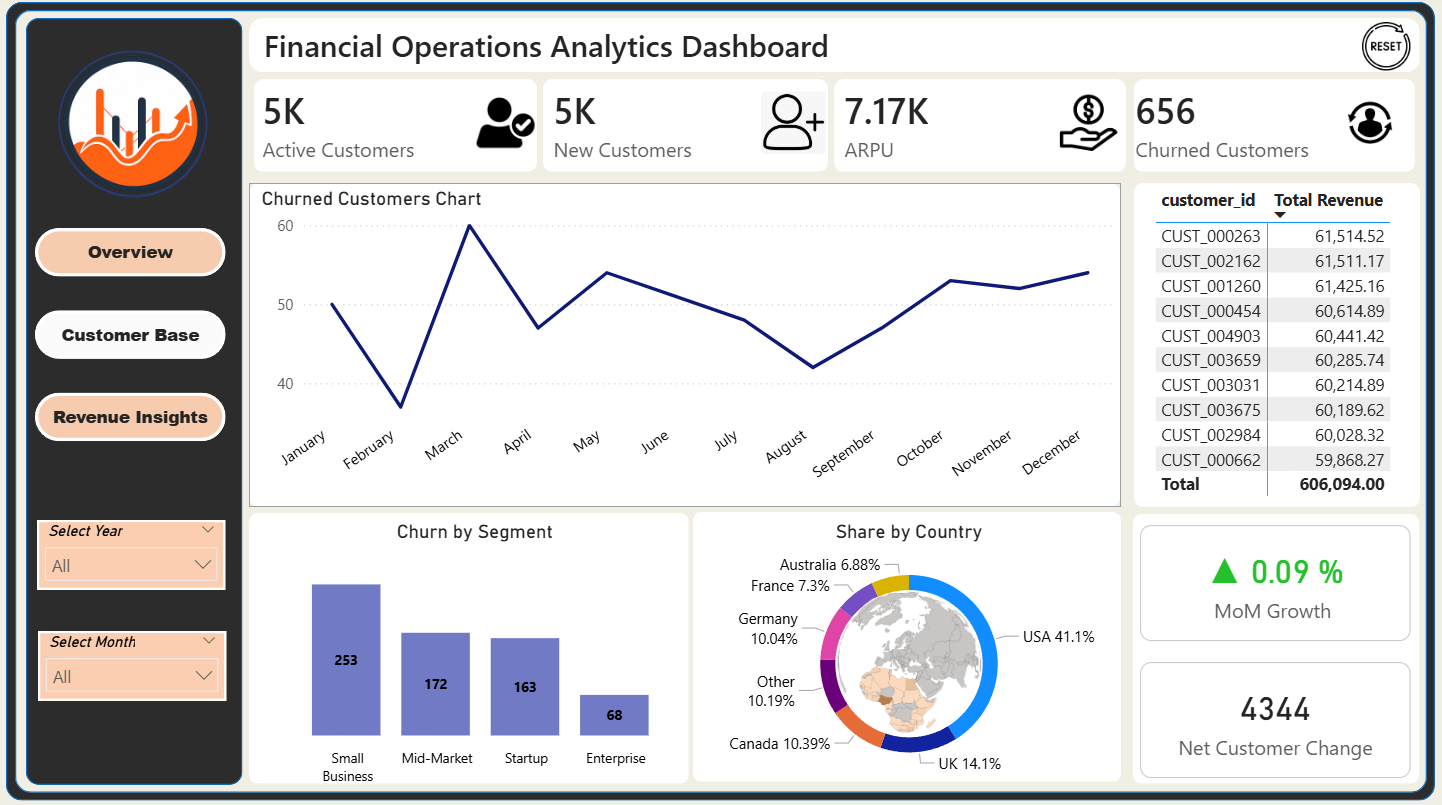

The page's visual inventory and layout, read from the dashboard file:
{"tool":"powerbi","page":{"name":"Customer Base","canvas":[1280,720],"ordinal":1},"visuals":[{"type":"group","id":"g1","title":"Group 1","box":[6.4,5.5,1267.3,708.2],"z":0},{"type":"shape","box":[6.4,5.5,1267,708],"z":0,"group":"g1"},{"type":"shape","box":[226.1,73.6,250.9,82.5],"z":0,"group":"g2"},{"type":"shape","box":[14.4,12.5,1252,694],"z":1000,"group":"g1"},{"type":"shape","box":[23.6,19.1,191.8,680],"z":1000},{"type":"shape","box":[482.4,73.6,252.7,82.5],"z":1000,"group":"g2"},{"type":"shape","box":[221.8,19.1,1038.2,48.2],"z":2000},{"type":"shape","box":[740.3,74,258.9,82.5],"z":2000,"group":"g2"},{"type":"shape","box":[1006.3,74,249.2,82.5],"z":3000,"group":"g2"},{"type":"pivotTable","fields":{"Rows":["transactions.customer_id"],"Values":["transactions.Total Revenue"]},"box":[682.7,173.6,247.3,284.5],"z":3000},{"type":"shape","box":[221.8,165.5,772.7,287.3],"z":4000},{"type":"lineChart","title":"Churned Customers Chart","fields":{"Y":["customers.Churned Customers"],"Category":["customers.churn_date.Variation.Date Hierarchy.Month"]},"box":[227.9,169.4,767,281.1],"z":5000},{"type":"shape","box":[1006.4,165.5,253.6,287.3],"z":6000},{"type":"pivotTable","fields":{"Rows":["transactions.customer_id"],"Values":["transactions.Total Revenue"]},"box":[1005.5,169.1,251.8,280.9],"z":7000},{"type":"shape","box":[221.8,458.2,390,240],"z":8000},{"type":"clusteredColumnChart","title":"Churn by Segment","fields":{"Category":["customers.segment"],"Y":["Sum(customers.is_churned)"]},"box":[228.8,464.6,386.6,242.1],"z":9000},{"type":"shape","box":[615.4,457.5,379.5,239.4],"z":10000},{"type":"donutChart","title":"Share by Country","fields":{"Category":["customers.country"],"Y":["Sum(transactions.amount)"]},"box":[618.9,464.6,376,235.9],"z":11000},{"type":"image","box":[706.4,528.2,200.9,124.5],"z":12000},{"type":"shape","box":[1005.5,459.1,253.6,239.1],"z":13000},{"type":"card","fields":{"Values":["transactions.MoM Display"]},"box":[1011.8,469.1,240,102.7],"z":14000},{"type":"card","fields":{"Values":["customers.Net Customer Change"]},"box":[1011.8,590.9,240,102.7],"z":15000},{"type":"slicer","title":"Year","fields":{"Values":["transactions.year_month.Variation.Date Hierarchy.Year"]},"box":[33.3,464.6,167.3,62.5],"z":16000},{"type":"slicer","title":"Year","fields":{"Values":["transactions.year_month.Variation.Date Hierarchy.Month"]},"box":[34.3,563.4,167.3,62.5],"z":17000},{"type":"pageNavigator","box":[31.9,205.7,169.4,190.6],"z":18000},{"type":"textbox","box":[229.7,20.4,558.6,55],"z":19000},{"type":"image","box":[16,12.4,202.2,205.7],"z":20000},{"type":"actionButton","box":[1208.6,23.1,42.6,42.6],"z":21000},{"type":"group","id":"g2","title":"Group 2","box":[226.1,73.6,1029.4,82.8],"z":22000},{"type":"cardVisual","fields":{"Data":["transactions.Active Customers","customers.New Customers","transactions.ARPU","customers.Churn Rate"]},"box":[221.7,75.4,1038.3,81.6],"z":23000}]}

Visuals, with their boxes in screenshot pixels (x1, y1, x2, y2), scaled from the page's 1280x720 canvas onto the 1442x805 screenshot:
"Group 1" group: region(7, 6, 1435, 798)
shape: region(7, 6, 1435, 798)
shape: region(255, 82, 537, 175)
shape: region(16, 14, 1427, 790)
shape: region(27, 21, 243, 782)
shape: region(543, 82, 828, 175)
shape: region(250, 21, 1419, 75)
shape: region(834, 83, 1126, 175)
shape: region(1134, 83, 1414, 175)
pivotTable - transactions.customer_id x transactions.Total Revenue: region(769, 194, 1048, 512)
shape: region(250, 185, 1120, 506)
"Churned Customers Chart" lineChart: region(257, 189, 1121, 504)
shape: region(1134, 185, 1419, 506)
pivotTable - transactions.customer_id x transactions.Total Revenue: region(1133, 189, 1416, 503)
shape: region(250, 512, 689, 781)
"Churn by Segment" clusteredColumnChart: region(258, 519, 693, 790)
shape: region(693, 512, 1121, 779)
"Share by Country" donutChart: region(697, 519, 1121, 783)
image: region(796, 591, 1022, 730)
shape: region(1133, 513, 1418, 781)
card - transactions.MoM Display: region(1140, 524, 1410, 639)
card - customers.Net Customer Change: region(1140, 661, 1410, 775)
"Year" slicer: region(38, 519, 226, 589)
"Year" slicer: region(39, 630, 227, 700)
pageNavigator: region(36, 230, 227, 443)
textbox: region(259, 23, 888, 84)
image: region(18, 14, 246, 244)
actionButton: region(1362, 26, 1410, 73)
"Group 2" group: region(255, 82, 1414, 175)
cardVisual - transactions.Active Customers x customers.New Customers: region(250, 84, 1419, 176)
